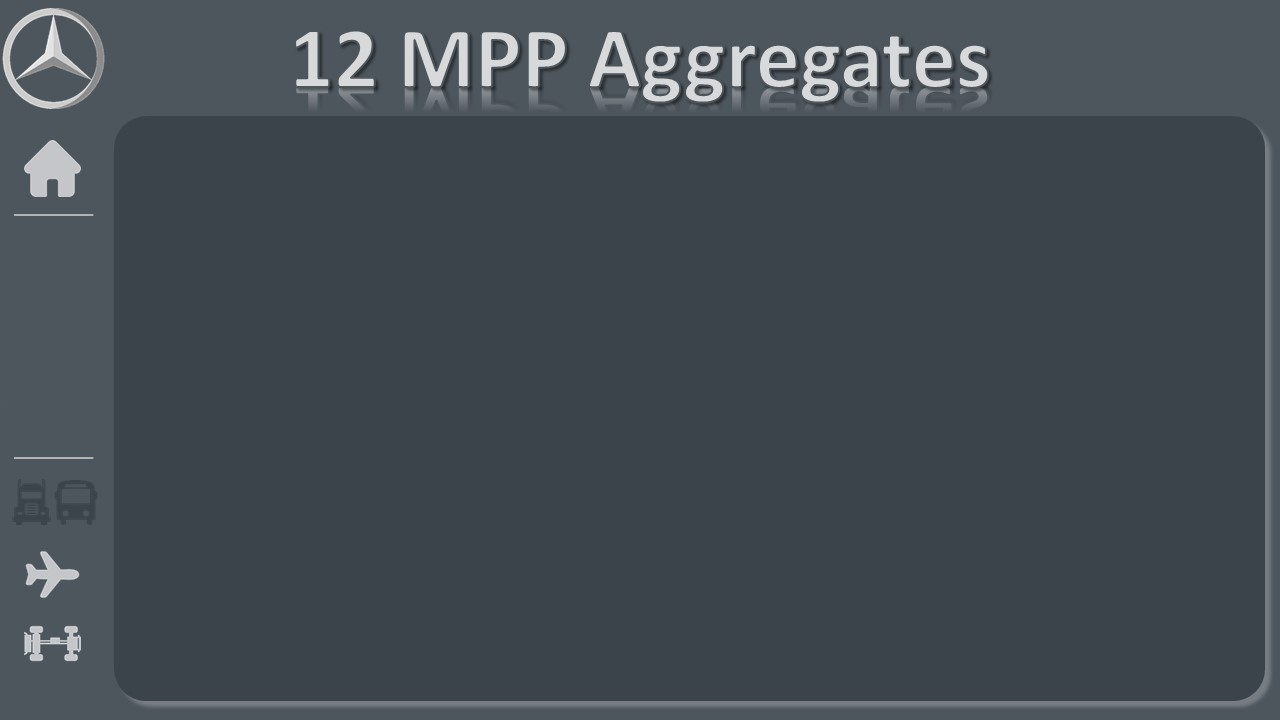

The page's visual inventory and layout, read from the dashboard file:
{"tool":"powerbi","page":{"name":"HomePage","canvas":[1280,720],"ordinal":0},"visuals":[{"type":"actionButton","box":[198.9,360.1,229,86.7],"z":0},{"type":"actionButton","box":[198.9,461.9,229,72.6],"z":1000},{"type":"actionButton","box":[198.9,555.2,240.4,80.1],"z":2000},{"type":"actionButton","box":[570.3,360.1,229,86.7],"z":3000},{"type":"actionButton","box":[566.5,461.9,229,72.6],"z":4000},{"type":"actionButton","box":[570.3,555.2,240.4,80.1],"z":5000},{"type":"actionButton","box":[934.1,360.1,229,86.7],"z":6000},{"type":"actionButton","box":[931.3,461.9,229,72.6],"z":7000},{"type":"actionButton","box":[936,555.2,240.4,80.1],"z":8000}]}

Visuals, with their boxes in screenshot pixels (x1, y1, x2, y2), scaled from the page's 1280x720 canvas onto the 1280x720 screenshot:
actionButton: detection(199, 360, 428, 447)
actionButton: detection(199, 462, 428, 534)
actionButton: detection(199, 555, 439, 635)
actionButton: detection(570, 360, 799, 447)
actionButton: detection(566, 462, 796, 534)
actionButton: detection(570, 555, 811, 635)
actionButton: detection(934, 360, 1163, 447)
actionButton: detection(931, 462, 1160, 534)
actionButton: detection(936, 555, 1176, 635)
